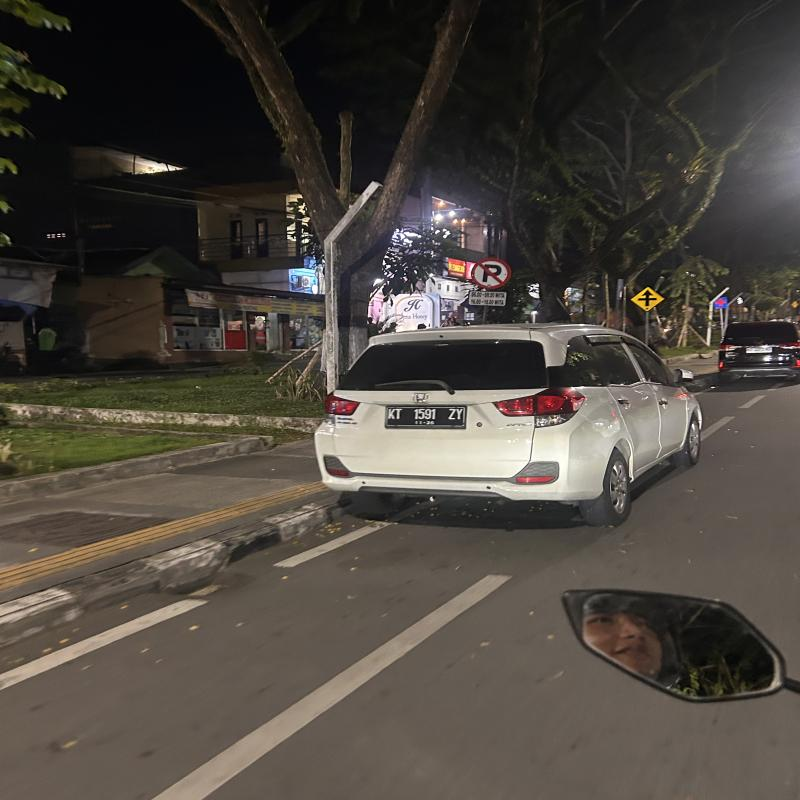license plate on a car: (384, 405, 468, 428)
